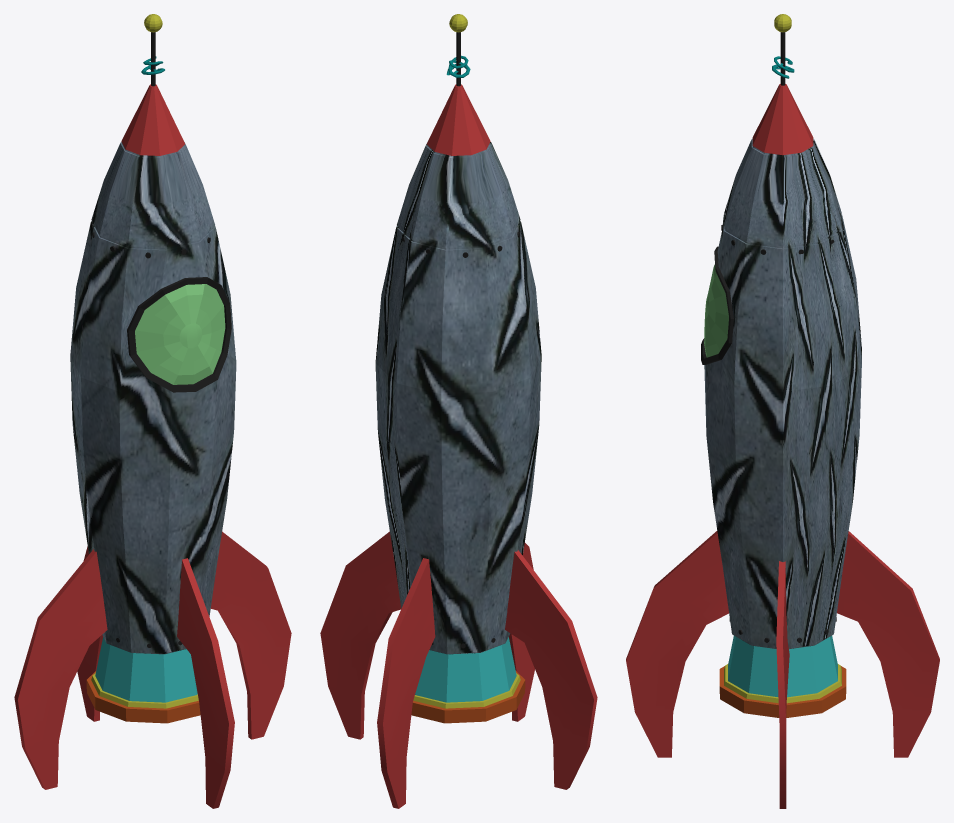
Rendered from rocket.obj.
3 views of the same model, side by side, from view 1: azimuth 30°, elevation 25°; view 2: azimuth 150°, elevation 25°; view 3: azimuth 270°, elevation 25° (orthographic).
Parts seen in each view (by area): view 1: polySurface28; view 2: polySurface28; view 3: polySurface28.
Boxes of the visible parts, x1,y1,x2,y2 form: polySurface28: [14, 14, 291, 808]; polySurface28: [320, 14, 597, 808]; polySurface28: [626, 14, 939, 808].
Size of the model in its own units: 5.28 by 13.76 by 5.28.
